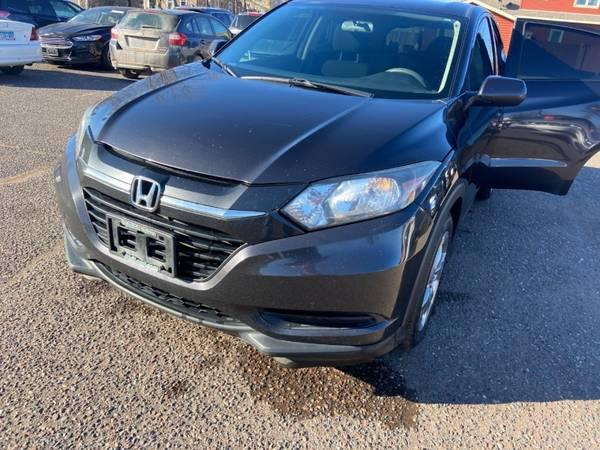Front_Bumper: (53, 133, 444, 364)
Front_Fender: (352, 95, 479, 220)
Front_Left_Window: (458, 19, 490, 94)
Front_Windshield: (201, 1, 462, 102)
Grille: (80, 191, 245, 321)
Hood: (82, 66, 438, 183)
Left_Headlight: (281, 161, 438, 232)
Left_Mirror: (478, 74, 530, 102)
Rear_Left_Door: (491, 91, 600, 192)
Rear_Left_Window: (505, 20, 599, 107)
Roof: (297, 0, 487, 100)
Wheel: (418, 218, 457, 330)
